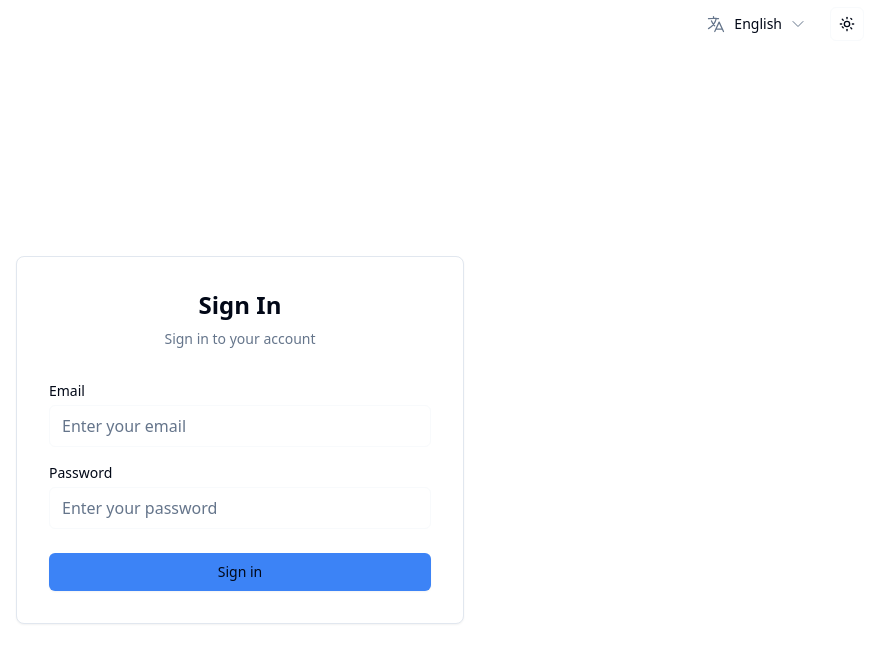
Scenario: LoginPage › form validation › should show validation error for invalid email format
Step 1. Type "invalid-email" into the field labelled "Email" → [240, 426], box [49, 405, 431, 447]
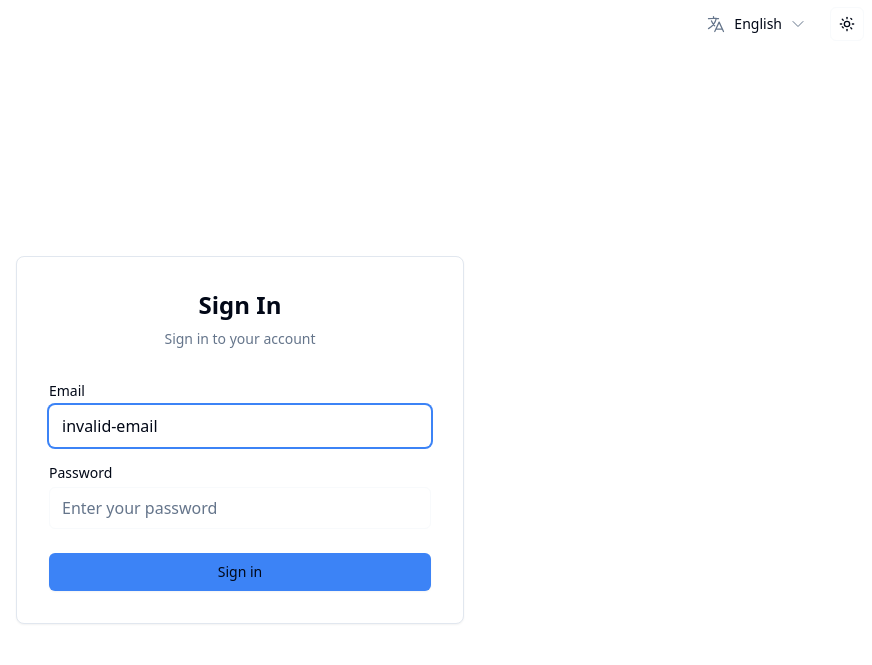
Step 2. Click the button "Sign in" → [240, 572], box [49, 553, 431, 591]
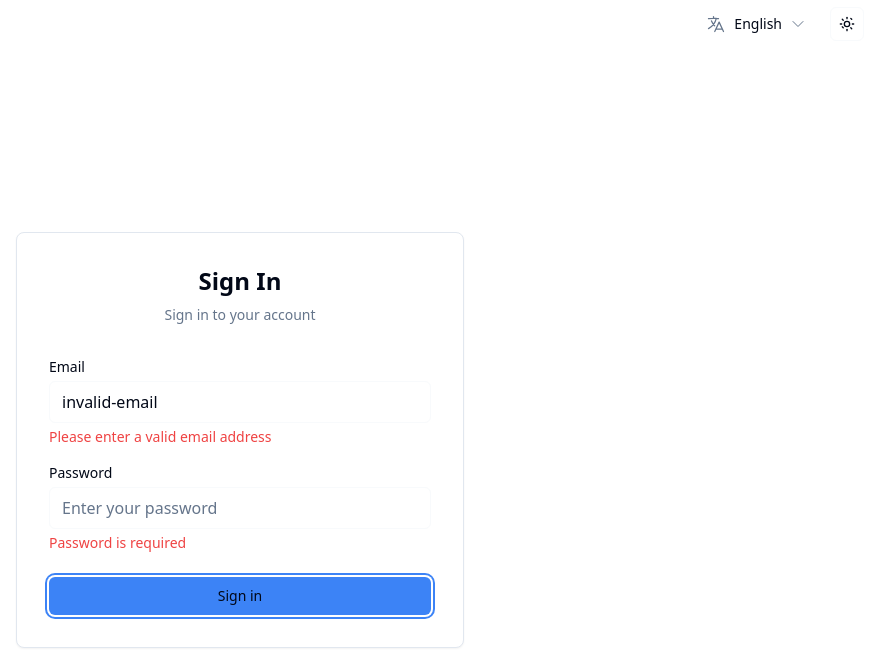
Result: the text "Please enter a valid email address" is shown at [49, 427, 272, 446]
